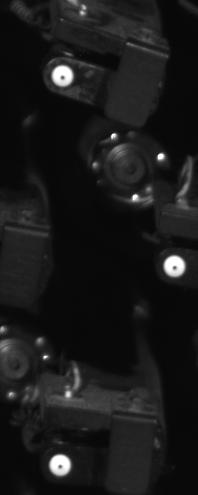fiber: (46, 60, 77, 94), (44, 450, 77, 479), (160, 251, 188, 283)
